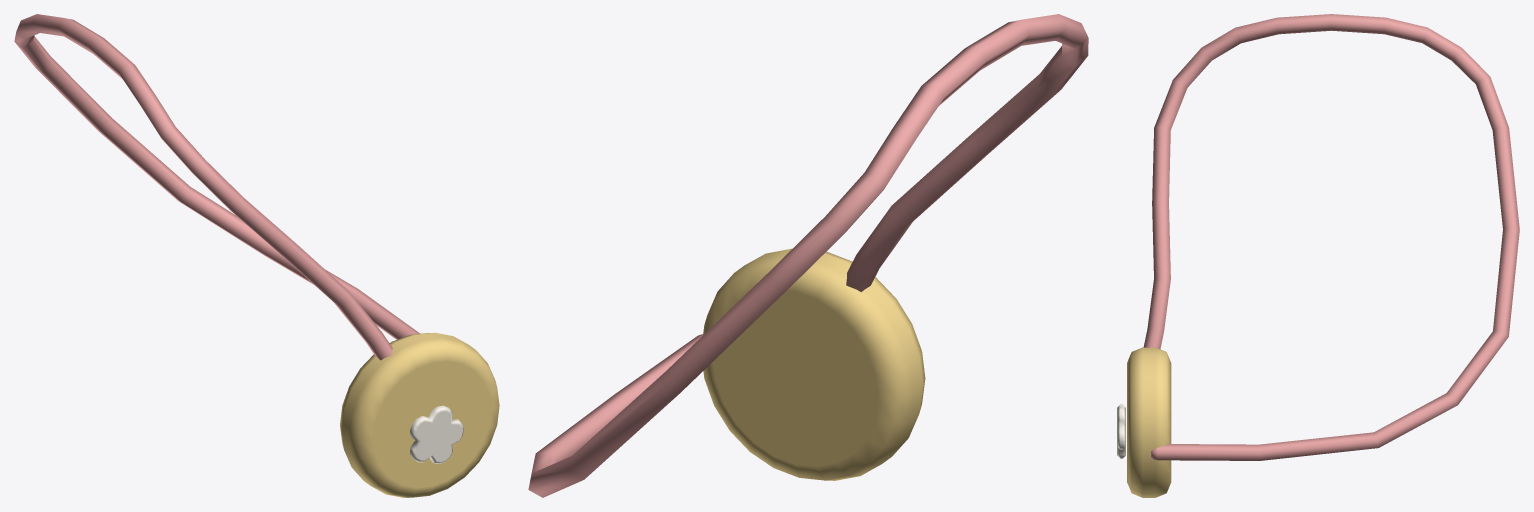
The model's file is dreamy_unicorn_pochette.glb.
The picture shows the model from 3 angles, left to right: view 1: azimuth 30°, elevation 25°; view 2: azimuth 150°, elevation 25°; view 3: azimuth 270°, elevation 25°; orthographic projection. The views are drawn at different scales.
Parts seen in each view (by area): view 1: dreamy_unicorn_pochette_Body; view 2: dreamy_unicorn_pochette_Body; view 3: dreamy_unicorn_pochette_Body.
Boxes of the visible parts, <box> form: dreamy_unicorn_pochette_Body: <box>14,14,499,497</box>; dreamy_unicorn_pochette_Body: <box>528,14,1088,497</box>; dreamy_unicorn_pochette_Body: <box>1117,14,1519,497</box>.
Size of the model in its own units: 0.3533 by 0.4741 by 0.4526.
